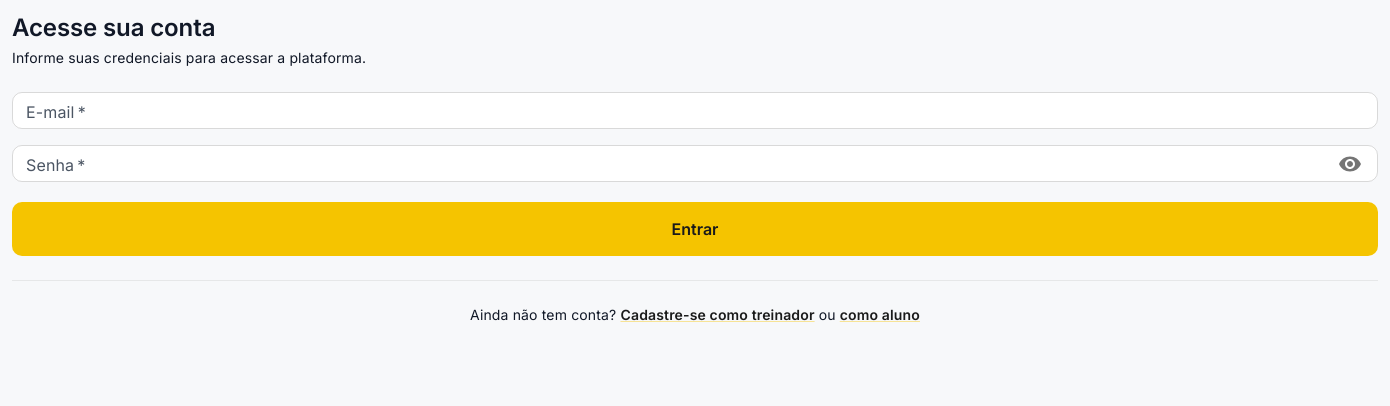
Scenario: /login — segunda etapa MFA › login com MFA pendente renderiza o campo de código
The width and height of the screenshot is (1390, 406).
Type "u@u.com" into the field labelled "E-mail *" at [695, 111], box [12,92,1378,129]
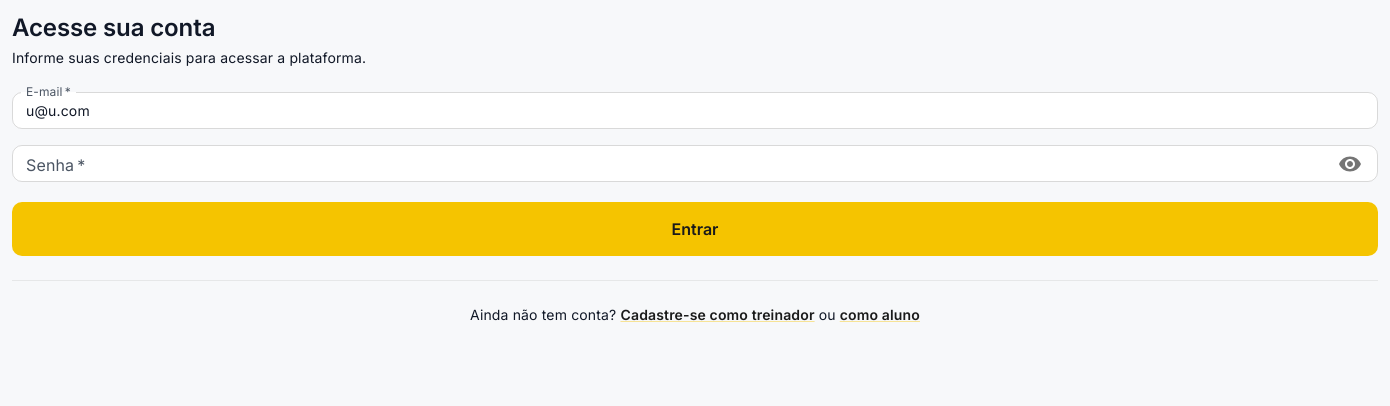
Type "senha123" into the password field labelled "Senha *" at [668, 164], box [12,145,1325,182]
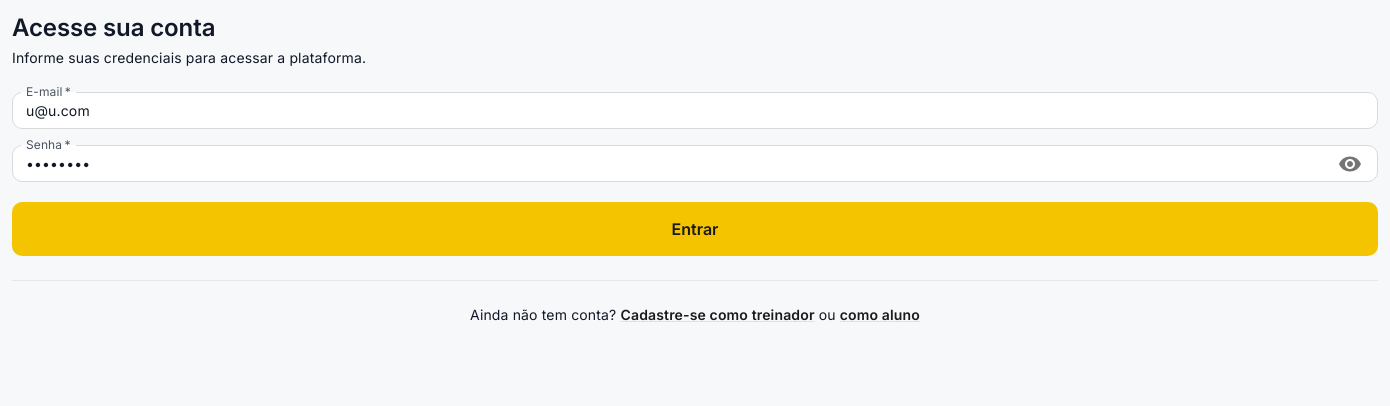
Click the button "Entrar" at [695, 229], box [12,202,1378,256]
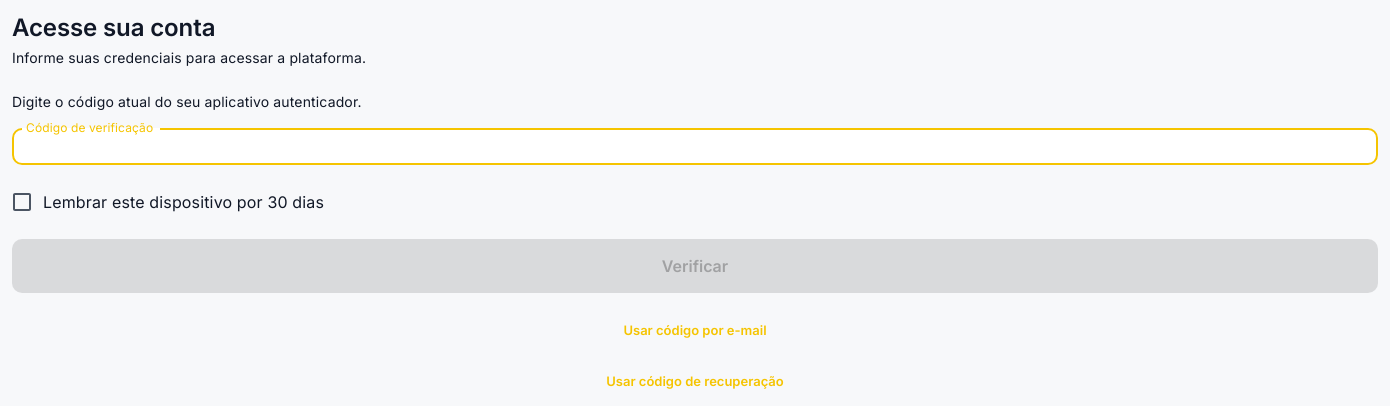
expect the field labelled "Código de verificação" is shown: met, box [12,128,1378,165]
expect the text "Digite o código atual do seu aplicativo autenticador." is shown: met, box [12,93,362,110]
